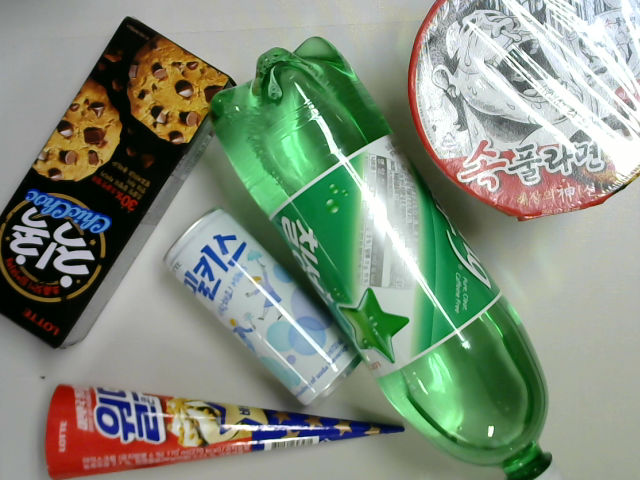Chicchok_Original_2400: (1, 11, 240, 354)
Chilseong_Cider_1.5L: (204, 32, 570, 480)
Hejangpul: (408, 1, 637, 222)
Milkies_250ml: (160, 204, 370, 414)
World_Cone_Banila: (36, 381, 411, 480)
